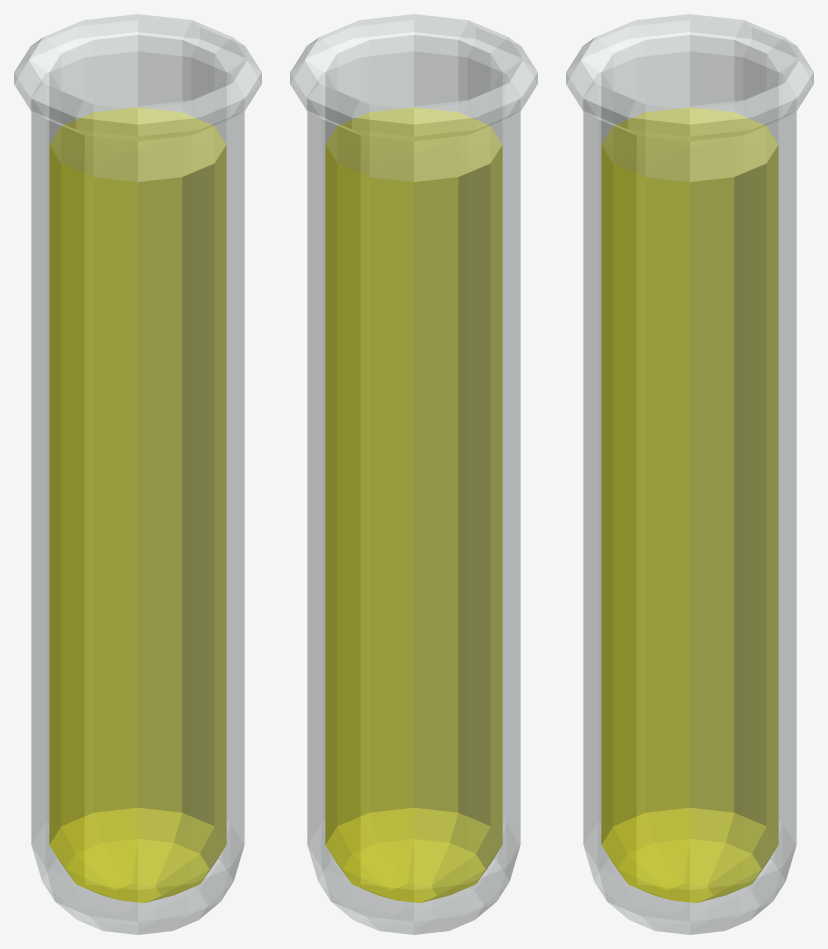
Rendered from TestTubeYellow.glb.
The picture shows the model from 3 angles, left to right: view 1: azimuth 30°, elevation 25°; view 2: azimuth 150°, elevation 25°; view 3: azimuth 270°, elevation 25°; orthographic projection.
Visible parts, largest first — view 1: group396116694; view 2: group396116694; view 3: group396116694.
Part boxes in pixels (x1,y1,x2,y2): group396116694: (14, 14, 261, 934); group396116694: (290, 14, 537, 934); group396116694: (566, 14, 813, 934).
Size of the model in its own units: 0.186 by 0.71 by 0.186.
